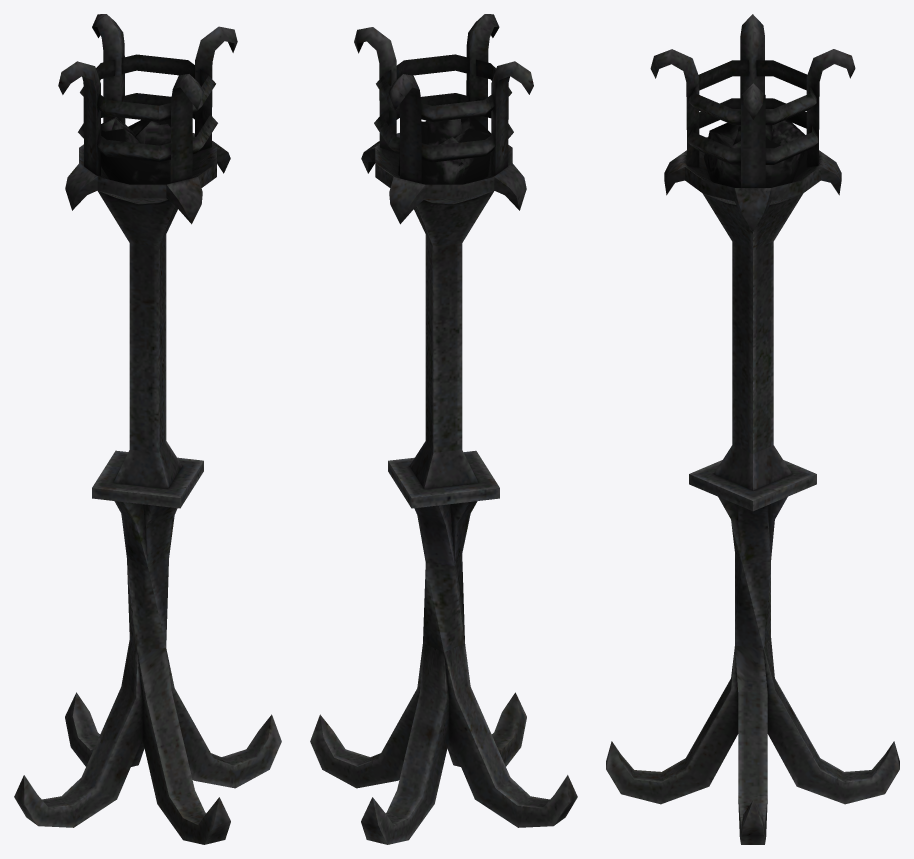
The model's file is torch_floor.dae.
The picture shows the model from 3 angles, left to right: view 1: azimuth 30°, elevation 25°; view 2: azimuth 150°, elevation 25°; view 3: azimuth 270°, elevation 25°; orthographic projection.
Parts seen in each view (by area): view 1: torch_floor_mesh; view 2: torch_floor_mesh; view 3: torch_floor_mesh.
Part boxes in pixels (<box>): torch_floor_mesh: <box>14,14,281,844</box>; torch_floor_mesh: <box>310,14,577,844</box>; torch_floor_mesh: <box>606,14,899,844</box>.
Bounding box in the file's own units: 0.4188 × 1.18 × 0.4188.
